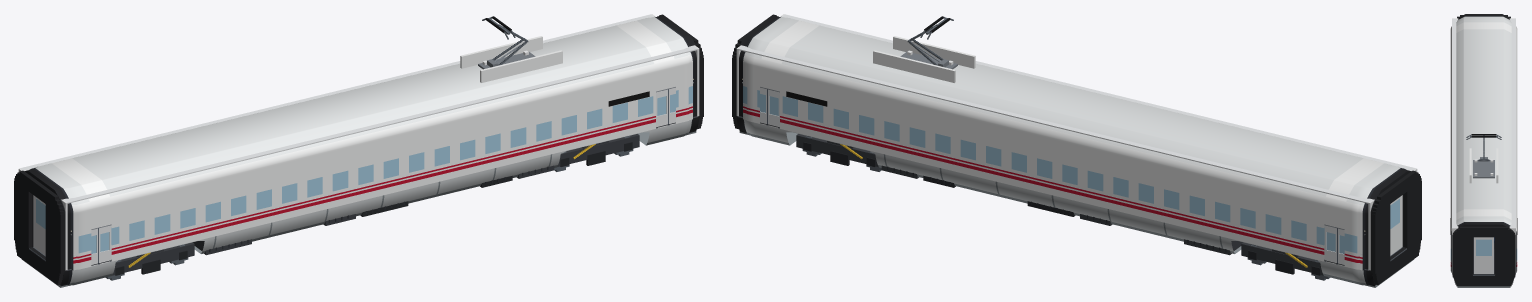
The model's file is fuxing_car.obj.
3 renders of one model, left to right at view 1: azimuth 30°, elevation 25°; view 2: azimuth 150°, elevation 25°; view 3: azimuth 270°, elevation 25°, orthographic. The views are drawn at different scales.
Parts seen in each view (by area): view 1: SHELL, SHELL_ceiling, SHELL_diaphragm, SHELL_pantograph, BOGEY_REAR, BOGEY_FRONT, FRAME, CONNECTING_DOOR_1_CG_CR_TOGGLE_TL_0.98_Z, SHELL_end, EXTERNAL_DOOR_5_CG_DR1_TOGGLE_TL_0.44_X, EXTERNAL_DOOR_10_CG_DR2_TOGGLE_TL_-0.44_X; view 2: SHELL, SHELL_ceiling, SHELL_diaphragm, SHELL_pantograph, BOGEY_REAR, BOGEY_FRONT, FRAME, CONNECTING_DOOR_1_CG_CR_TOGGLE_TL_0.98_Z, SHELL_end, EXTERNAL_DOOR_8_CG_DL1_TOGGLE_TL_0.44_X, EXTERNAL_DOOR_13_CG_DL2_TOGGLE_TL_-0.44_X; view 3: SHELL, SHELL_diaphragm, SHELL_ceiling, SHELL_pantograph, CONNECTING_DOOR_2_CG_CF_TOGGLE_TL_0.98_Z, SHELL_end, SHELL_floor.
Part boxes in pixels (bbox=[...]): SHELL: bbox=[21, 15, 700, 287]; SHELL_ceiling: bbox=[20, 14, 697, 203]; SHELL_diaphragm: bbox=[14, 14, 703, 285]; SHELL_pantograph: bbox=[460, 16, 562, 82]; BOGEY_REAR: bbox=[112, 242, 194, 275]; BOGEY_FRONT: bbox=[557, 134, 639, 166]; FRAME: bbox=[91, 122, 675, 265]; CONNECTING_DOOR_1_CG_CR_TOGGLE_TL_0.98_Z: bbox=[34, 196, 45, 255]; SHELL_end: bbox=[18, 14, 699, 270]; EXTERNAL_DOOR_5_CG_DR1_TOGGLE_TL_0.44_X: bbox=[99, 225, 111, 262]; EXTERNAL_DOOR_10_CG_DR2_TOGGLE_TL_-0.44_X: bbox=[656, 89, 668, 127]; SHELL: bbox=[735, 15, 1414, 287]; SHELL_ceiling: bbox=[738, 14, 1415, 203]; SHELL_diaphragm: bbox=[732, 14, 1421, 285]; SHELL_pantograph: bbox=[873, 16, 975, 82]; BOGEY_REAR: bbox=[1241, 242, 1323, 275]; BOGEY_FRONT: bbox=[796, 134, 878, 166]; FRAME: bbox=[760, 122, 1344, 265]; CONNECTING_DOOR_1_CG_CR_TOGGLE_TL_0.98_Z: bbox=[1390, 196, 1401, 255]; SHELL_end: bbox=[736, 14, 1417, 270]; EXTERNAL_DOOR_8_CG_DL1_TOGGLE_TL_0.44_X: bbox=[1324, 225, 1336, 262]; EXTERNAL_DOOR_13_CG_DL2_TOGGLE_TL_-0.44_X: bbox=[767, 89, 779, 127]; SHELL: bbox=[1450, 14, 1517, 287]; SHELL_diaphragm: bbox=[1452, 15, 1515, 286]; SHELL_ceiling: bbox=[1452, 18, 1515, 227]; SHELL_pantograph: bbox=[1466, 134, 1501, 183]; CONNECTING_DOOR_2_CG_CF_TOGGLE_TL_0.98_Z: bbox=[1474, 237, 1493, 273]; SHELL_end: bbox=[1452, 18, 1515, 273]; SHELL_floor: bbox=[1473, 237, 1494, 272].
Size of the model in its own units: 25.32 by 5.68 by 3.38.
Materials: 1 (1 with a texture image).
